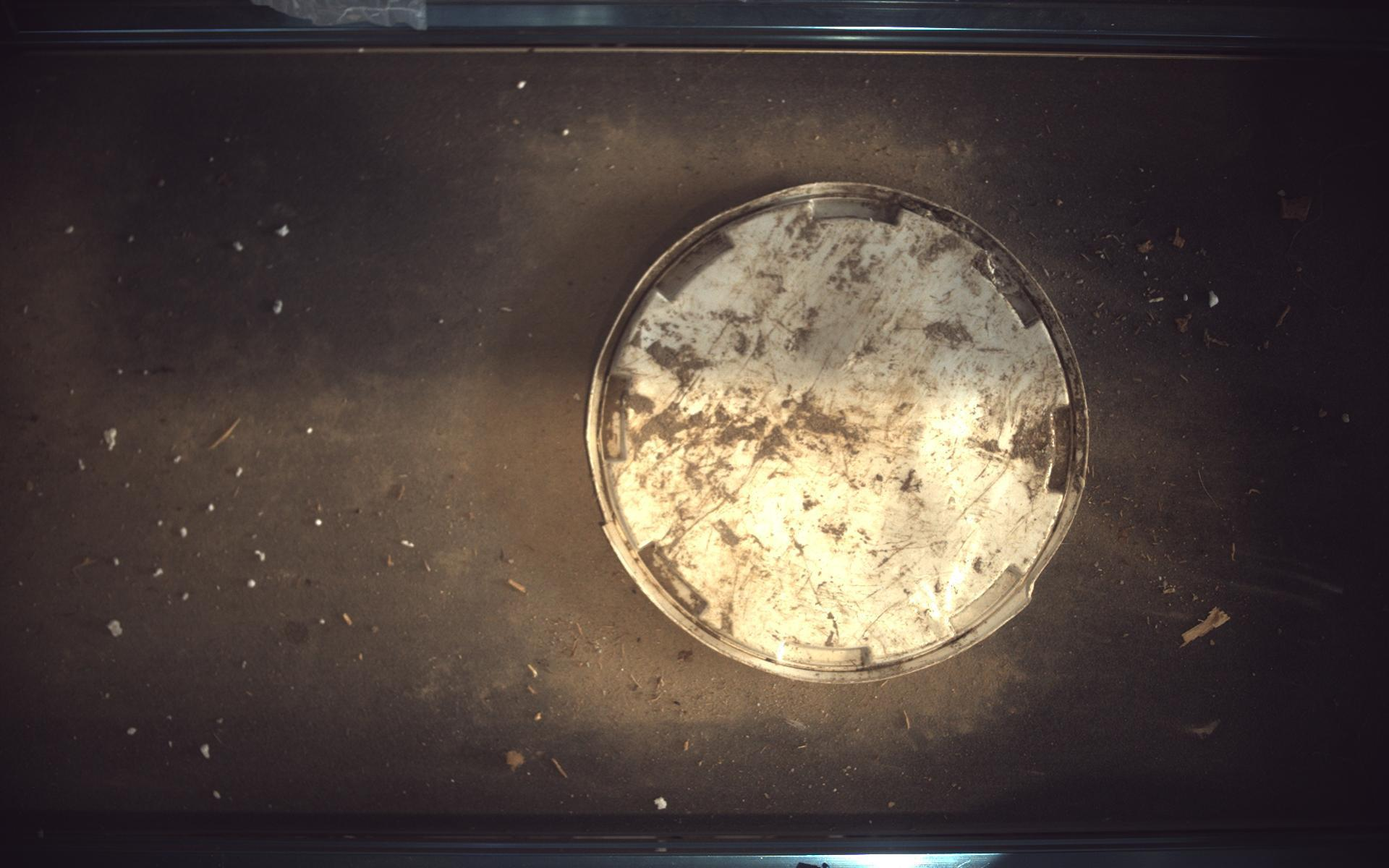plastic: (587, 182, 1091, 684)
